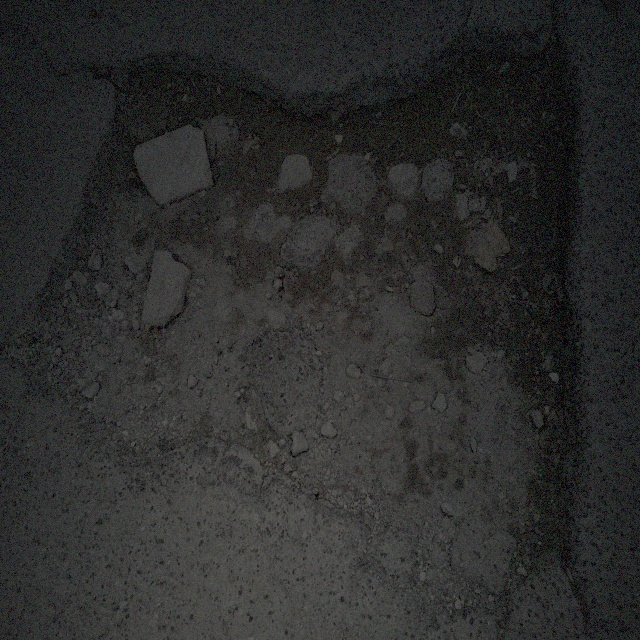pothole: (21, 18, 593, 610)
